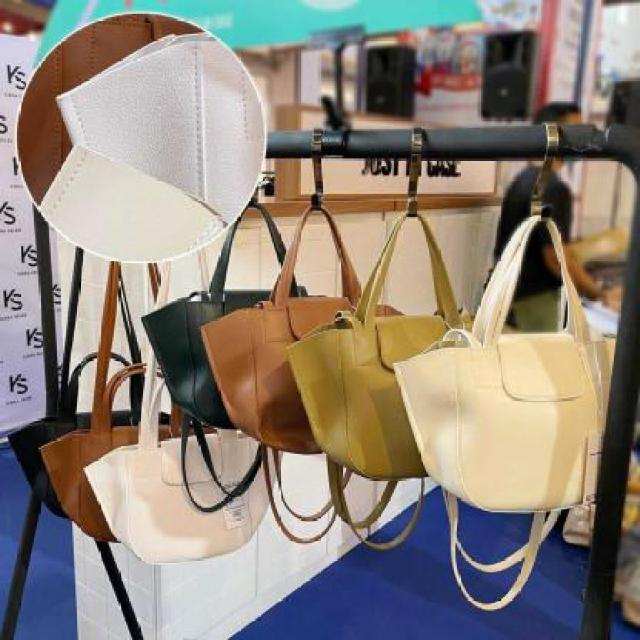Bag: (384, 177, 640, 616)
